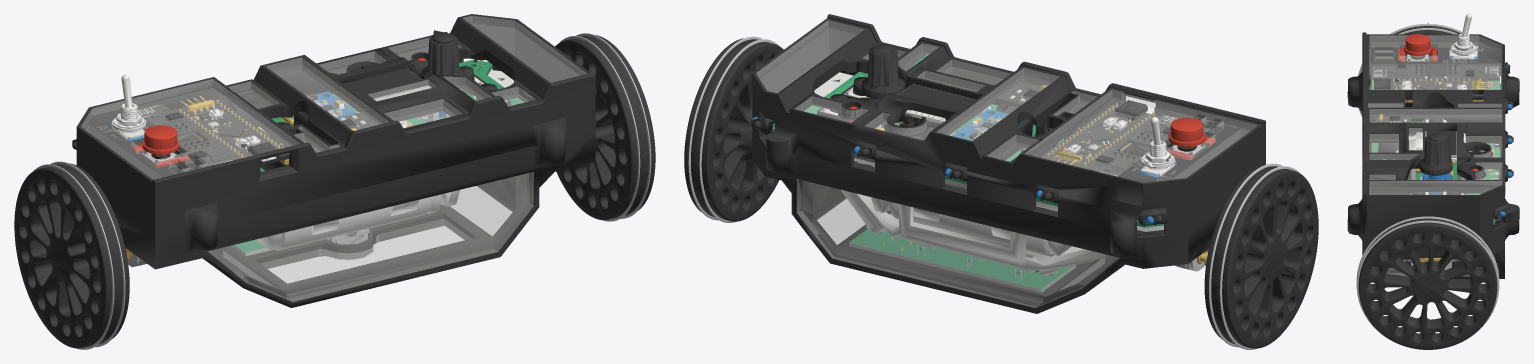
Rendered from auto_micro.glb.
3 views of the same model, side by side, from view 1: azimuth 30°, elevation 25°; view 2: azimuth 150°, elevation 25°; view 3: azimuth 270°, elevation 25° (orthographic). The views are drawn at different scales.
Parts seen in each view (by area): view 1: AutoMicro_V2_Chassis, AutoMicro_V2_Acrylic_Top, AutoMicro_V2_Acrylic_Bottom, AutoMicro_V2_Wheel_L, AutoMicro_V2_Wheel_R, AutoMicro_V2_Electronics, AutoMicro_V2_STM32, AutoMicro_V2_ESP, AutoMicro_V2_OLED, AutoMicro_V2_MPU; view 2: AutoMicro_V2_Chassis, AutoMicro_V2_Acrylic_Top, AutoMicro_V2_Acrylic_Bottom, AutoMicro_V2_Wheel_L, AutoMicro_V2_Electronics, AutoMicro_V2_Wheel_R, AutoMicro_V2_TCRT_Sensors, AutoMicro_V2_STM32, AutoMicro_V2_ESP, AutoMicro_V2_OLED, AutoMicro_V2_MPU; view 3: AutoMicro_V2_Chassis, AutoMicro_V2_Wheel_R, AutoMicro_V2_Acrylic_Top, AutoMicro_V2_Electronics, AutoMicro_V2_STM32, AutoMicro_V2_ESP, AutoMicro_V2_OLED, AutoMicro_V2_TCRT_Sensors, AutoMicro_V2_Wheel_L.
Part boxes in pixels (x1,y1,x2,y2): AutoMicro_V2_Chassis: [76, 14, 595, 307]; AutoMicro_V2_Acrylic_Top: [81, 16, 587, 179]; AutoMicro_V2_Acrylic_Bottom: [208, 172, 533, 301]; AutoMicro_V2_Wheel_L: [14, 161, 129, 349]; AutoMicro_V2_Wheel_R: [555, 33, 655, 221]; AutoMicro_V2_Electronics: [110, 30, 524, 267]; AutoMicro_V2_STM32: [172, 96, 289, 170]; AutoMicro_V2_ESP: [137, 104, 236, 166]; AutoMicro_V2_OLED: [337, 68, 438, 122]; AutoMicro_V2_MPU: [293, 91, 356, 127]; AutoMicro_V2_Chassis: [752, 14, 1265, 313]; AutoMicro_V2_Acrylic_Top: [756, 20, 1257, 182]; AutoMicro_V2_Acrylic_Bottom: [797, 179, 1119, 307]; AutoMicro_V2_Wheel_L: [1204, 163, 1318, 349]; AutoMicro_V2_Electronics: [773, 44, 1215, 274]; AutoMicro_V2_Wheel_R: [684, 36, 783, 222]; AutoMicro_V2_TCRT_Sensors: [751, 111, 1166, 292]; AutoMicro_V2_STM32: [1040, 100, 1158, 168]; AutoMicro_V2_ESP: [1087, 114, 1179, 176]; AutoMicro_V2_OLED: [894, 84, 988, 140]; AutoMicro_V2_MPU: [952, 109, 1032, 160]; AutoMicro_V2_Chassis: [1347, 32, 1519, 278]; AutoMicro_V2_Wheel_R: [1356, 216, 1499, 349]; AutoMicro_V2_Acrylic_Top: [1368, 35, 1501, 194]; AutoMicro_V2_Electronics: [1372, 14, 1499, 269]; AutoMicro_V2_STM32: [1374, 78, 1493, 107]; AutoMicro_V2_ESP: [1372, 62, 1499, 80]; AutoMicro_V2_OLED: [1407, 131, 1465, 179]; AutoMicro_V2_TCRT_Sensors: [1491, 62, 1513, 219]; AutoMicro_V2_Wheel_L: [1358, 23, 1462, 116].
Size of the model in its own units: 0.2238 by 0.0883 by 0.0807.
